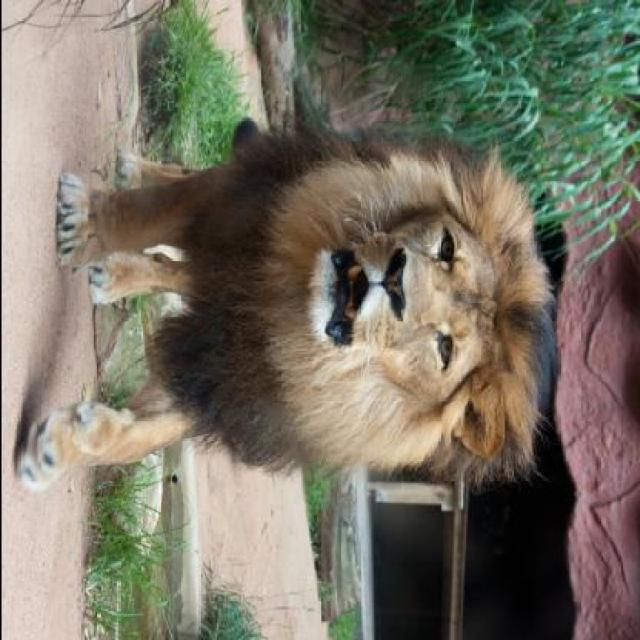Lion: (0, 83, 563, 514)
